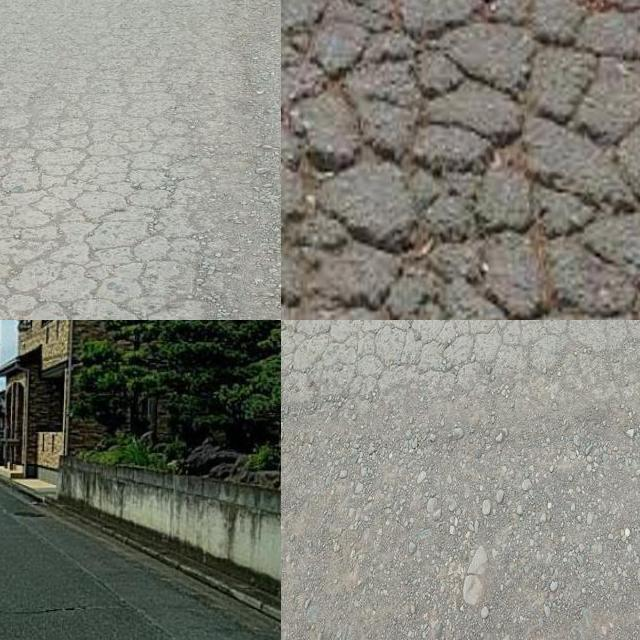Melintang: (0, 590, 107, 623)
Retak Buaya: (281, 0, 640, 320), (0, 111, 207, 320), (281, 320, 640, 429)
